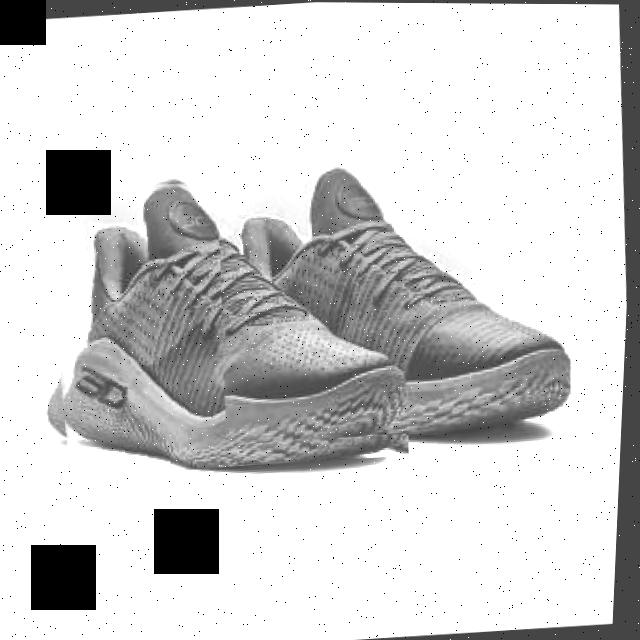shoe: (34, 161, 422, 479), (209, 152, 585, 446)
